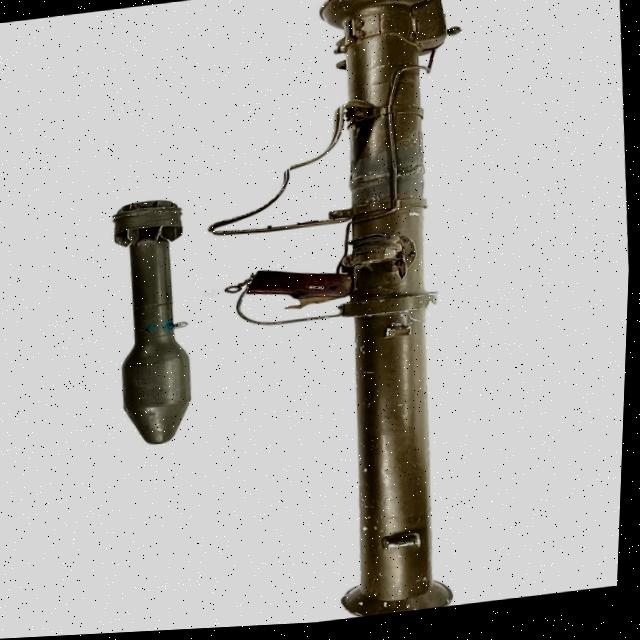grenade: (107, 196, 205, 450)
rocket: (214, 0, 503, 631)
